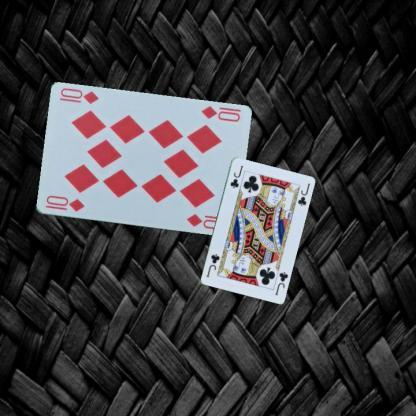10d: (198, 103, 241, 124), (44, 193, 86, 213)
Jc: (272, 268, 289, 296), (228, 162, 244, 190)
